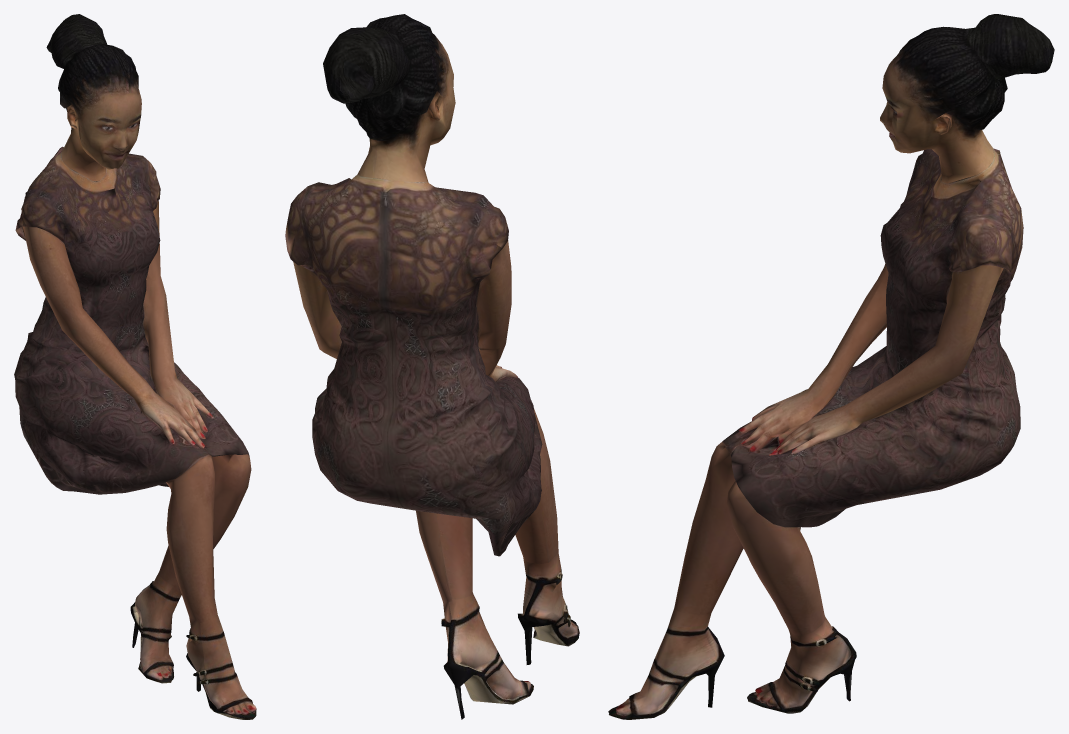
File: seated-scan-3.glb
3 views of the same model, side by side, from view 1: azimuth 30°, elevation 25°; view 2: azimuth 150°, elevation 25°; view 3: azimuth 270°, elevation 25° (orthographic). The views are drawn at different scales.
Visible parts, largest first — view 1: seated-scan-3; view 2: seated-scan-3; view 3: seated-scan-3.
Part boxes in pixels (left/top/right/bottom): seated-scan-3: left=14, top=14, right=256, bottom=719; seated-scan-3: left=285, top=14, right=579, bottom=719; seated-scan-3: left=608, top=14, right=1054, bottom=719.
Bounding box in the file's own units: 0.3733 × 1.34 × 0.7807.
Materials: 1 (1 with a texture image).
